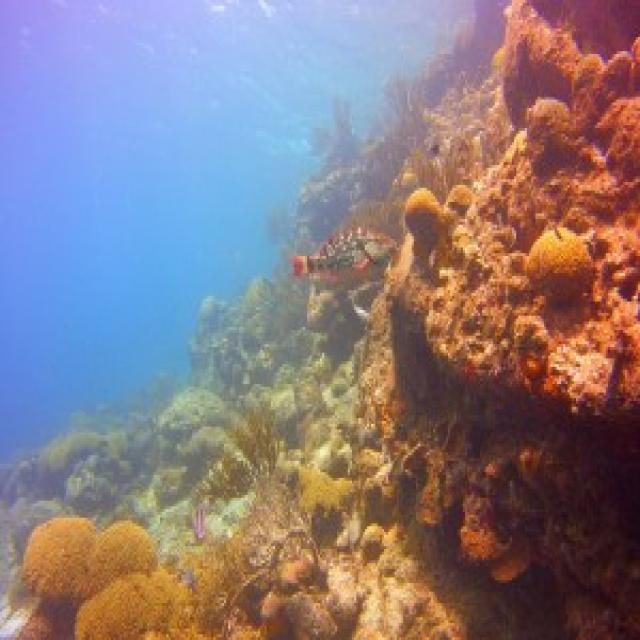Healthy: (507, 41, 639, 152), (184, 507, 263, 635), (496, 1, 581, 115), (76, 570, 191, 638), (199, 402, 278, 499), (24, 519, 97, 604), (528, 226, 594, 300), (513, 308, 566, 399), (93, 519, 157, 590), (287, 462, 351, 527), (404, 186, 472, 240)
